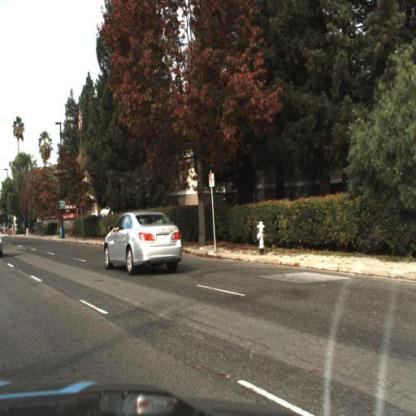car: (103, 210, 183, 276)
